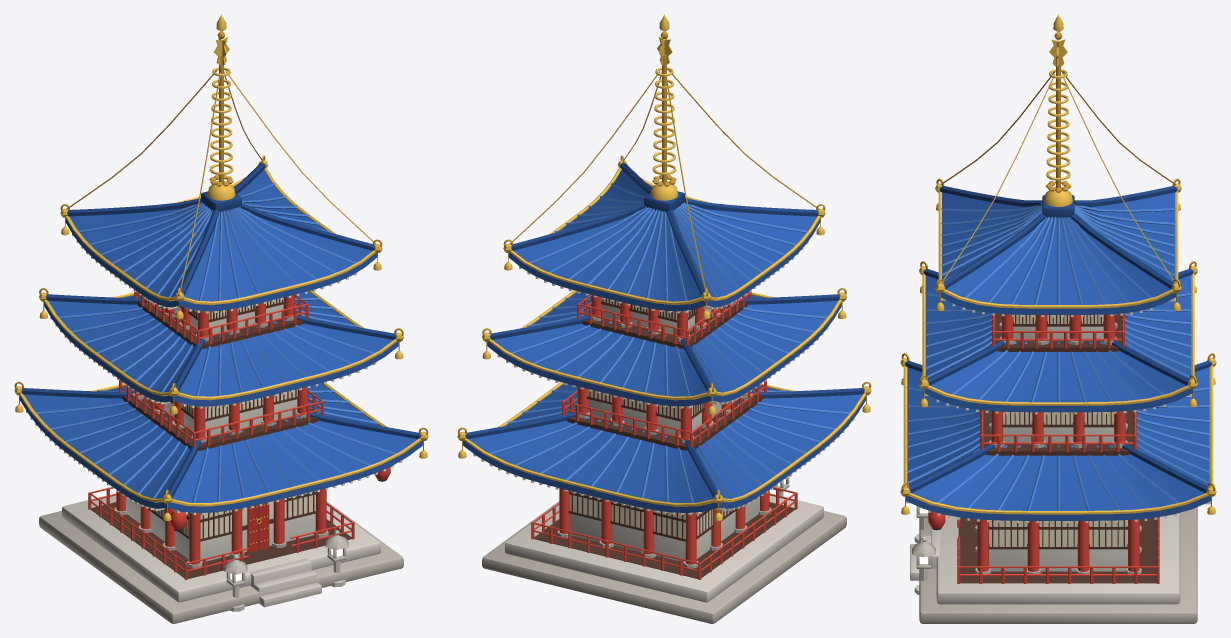
Rendered from PagodaV2.fbx.
3 views of the same model, side by side, from view 1: azimuth 30°, elevation 25°; view 2: azimuth 150°, elevation 25°; view 3: azimuth 270°, elevation 25° (orthographic). The views are drawn at different scales.
Visible parts, largest first — view 1: SakuraPagodaV2__Roof__2F63B7SP.001, SakuraPagodaV2__TileRibs__4C82D6SP.001, SakuraPagodaV2__Podium__BEB7ACSP.001, SakuraPagodaV2__Podium__D8D2C8SP.001, SakuraPagodaV2__HipRidges__23498CSP.001, SakuraPagodaV2__Railing__E84A3ASP.001, SakuraPagodaV2__EaveTrim__F2C14EME.001, SakuraPagodaV2__Decks__5A3A2ESP.001, SakuraPagodaV2__Columns__E84A3ASP.001, SakuraPagodaV2__Walls__F7F2E8SP.001, SakuraPagodaV2__Stairs__D8D2C8SP.001, SakuraPagodaV2__Lattice__5A3A2ESP.001 (+11 smaller); view 2: SakuraPagodaV2__Roof__2F63B7SP.001, SakuraPagodaV2__TileRibs__4C82D6SP.001, SakuraPagodaV2__Podium__BEB7ACSP.001, SakuraPagodaV2__Podium__D8D2C8SP.001, SakuraPagodaV2__HipRidges__23498CSP.001, SakuraPagodaV2__Railing__E84A3ASP.001, SakuraPagodaV2__Decks__5A3A2ESP.001, SakuraPagodaV2__EaveTrim__F2C14EME.001, SakuraPagodaV2__Columns__E84A3ASP.001, SakuraPagodaV2__Walls__F7F2E8SP.001, SakuraPagodaV2__Lattice__5A3A2ESP.001, SakuraPagodaV2__Paper__F3E6C8SP.001 (+7 smaller); view 3: SakuraPagodaV2__Roof__2F63B7SP.001, SakuraPagodaV2__TileRibs__4C82D6SP.001, SakuraPagodaV2__Podium__D8D2C8SP.001, SakuraPagodaV2__Podium__BEB7ACSP.001, SakuraPagodaV2__Decks__5A3A2ESP.001, SakuraPagodaV2__HipRidges__23498CSP.001, SakuraPagodaV2__EaveTrim__F2C14EME.001, SakuraPagodaV2__Columns__E84A3ASP.001, SakuraPagodaV2__Walls__F7F2E8SP.001, SakuraPagodaV2__Railing__E84A3ASP.001, SakuraPagodaV2__Paper__F3E6C8SP.001, SakuraPagodaV2__Lattice__5A3A2ESP.001 (+11 smaller).
Boxes of the visible parts, bbox=[...] form: SakuraPagodaV2__Roof__2F63B7SP.001: bbox=[19, 169, 422, 512]; SakuraPagodaV2__TileRibs__4C82D6SP.001: bbox=[35, 183, 396, 502]; SakuraPagodaV2__Podium__BEB7ACSP.001: bbox=[39, 501, 403, 623]; SakuraPagodaV2__Podium__D8D2C8SP.001: bbox=[62, 493, 380, 602]; SakuraPagodaV2__HipRidges__23498CSP.001: bbox=[21, 163, 420, 497]; SakuraPagodaV2__Railing__E84A3ASP.001: bbox=[88, 291, 354, 579]; SakuraPagodaV2__EaveTrim__F2C14EME.001: bbox=[19, 167, 421, 506]; SakuraPagodaV2__Decks__5A3A2ESP.001: bbox=[90, 302, 351, 578]; SakuraPagodaV2__Columns__E84A3ASP.001: bbox=[116, 295, 326, 564]; SakuraPagodaV2__Walls__F7F2E8SP.001: bbox=[126, 304, 315, 562]; SakuraPagodaV2__Stairs__D8D2C8SP.001: bbox=[250, 558, 321, 607]; SakuraPagodaV2__Lattice__5A3A2ESP.001: bbox=[148, 298, 317, 541]; SakuraPagodaV2__Roof__2F63B7SP.001: bbox=[463, 169, 866, 512]; SakuraPagodaV2__TileRibs__4C82D6SP.001: bbox=[489, 183, 850, 502]; SakuraPagodaV2__Podium__BEB7ACSP.001: bbox=[482, 501, 846, 623]; SakuraPagodaV2__Podium__D8D2C8SP.001: bbox=[505, 493, 823, 602]; SakuraPagodaV2__HipRidges__23498CSP.001: bbox=[465, 163, 864, 497]; SakuraPagodaV2__Railing__E84A3ASP.001: bbox=[531, 290, 797, 579]; SakuraPagodaV2__Decks__5A3A2ESP.001: bbox=[534, 302, 795, 578]; SakuraPagodaV2__EaveTrim__F2C14EME.001: bbox=[464, 167, 866, 506]; SakuraPagodaV2__Columns__E84A3ASP.001: bbox=[559, 295, 769, 564]; SakuraPagodaV2__Walls__F7F2E8SP.001: bbox=[570, 304, 759, 562]; SakuraPagodaV2__Lattice__5A3A2ESP.001: bbox=[568, 298, 737, 541]; SakuraPagodaV2__Paper__F3E6C8SP.001: bbox=[570, 298, 732, 538]; SakuraPagodaV2__Roof__2F63B7SP.001: bbox=[906, 192, 1210, 520]; SakuraPagodaV2__TileRibs__4C82D6SP.001: bbox=[906, 204, 1210, 510]; SakuraPagodaV2__Podium__D8D2C8SP.001: bbox=[936, 513, 1180, 604]; SakuraPagodaV2__Podium__BEB7ACSP.001: bbox=[919, 507, 1197, 623]; SakuraPagodaV2__Decks__5A3A2ESP.001: bbox=[958, 313, 1156, 583]; SakuraPagodaV2__HipRidges__23498CSP.001: bbox=[905, 186, 1211, 492]; SakuraPagodaV2__EaveTrim__F2C14EME.001: bbox=[903, 191, 1213, 514]; SakuraPagodaV2__Columns__E84A3ASP.001: bbox=[977, 314, 1139, 571]; SakuraPagodaV2__Walls__F7F2E8SP.001: bbox=[989, 315, 1127, 571]; SakuraPagodaV2__Railing__E84A3ASP.001: bbox=[957, 313, 1159, 583]; SakuraPagodaV2__Paper__F3E6C8SP.001: bbox=[989, 314, 1127, 546]; SakuraPagodaV2__Lattice__5A3A2ESP.001: bbox=[988, 314, 1128, 549].
Bounding box in the file's own units: 27.18 × 52.6 × 27.3.
